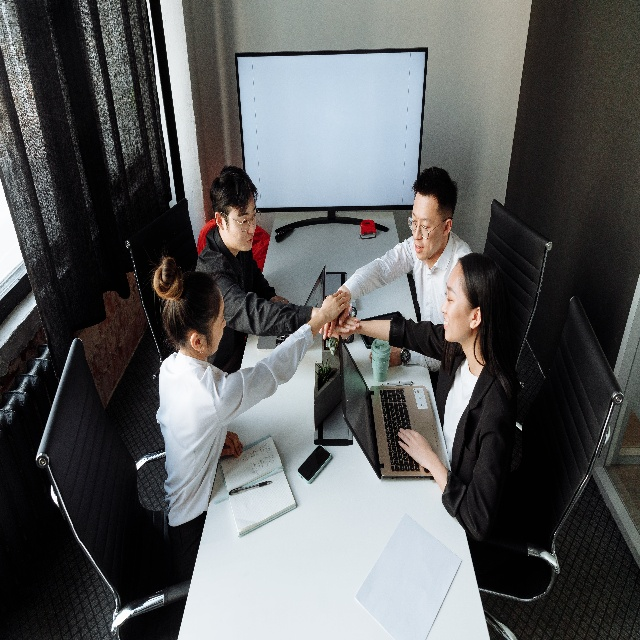Gafas: (406, 211, 453, 240), (219, 207, 262, 232)
Sin_guantes: (397, 427, 434, 466), (319, 289, 348, 323), (319, 308, 349, 339), (334, 315, 360, 333)
